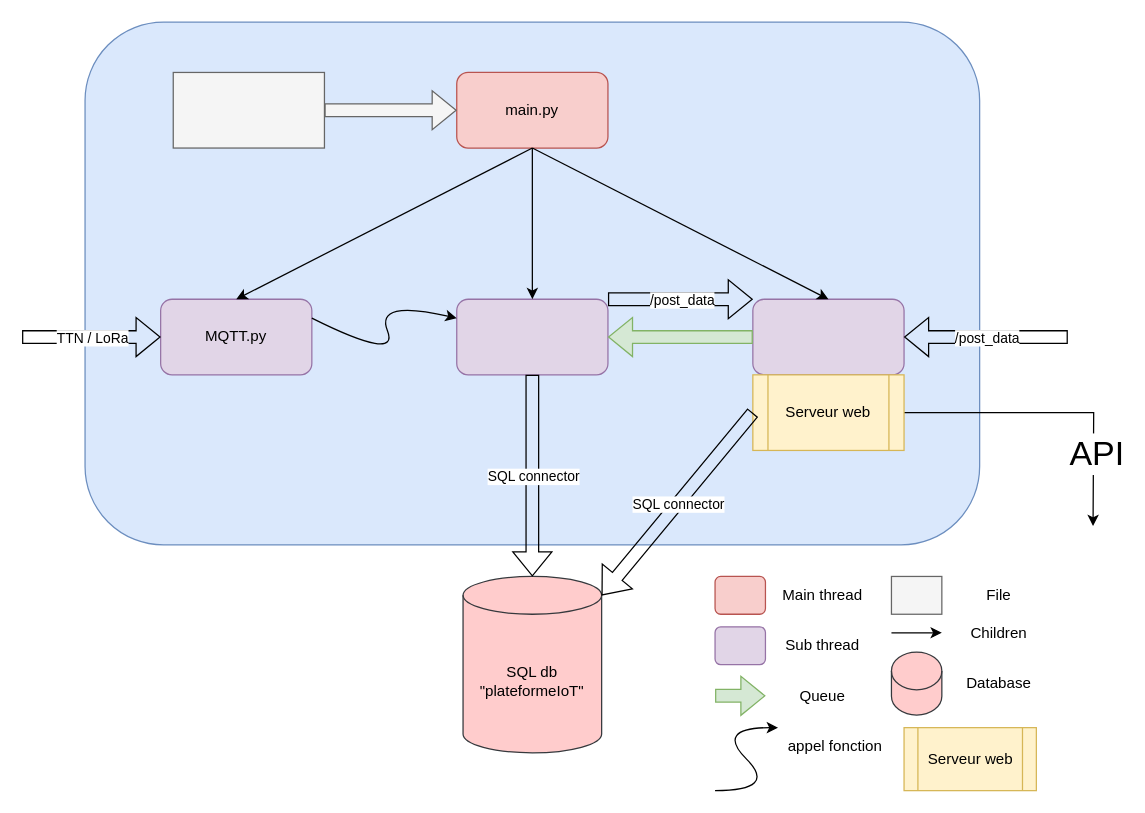
This 1145x813 diagram has some shape labels left out. Each missing label, with the centre of its shape:
"config.conf" belongs at (x=248, y=109).
"Interface.py" belongs at (x=531, y=336).
"IP.py" belongs at (x=828, y=336).
